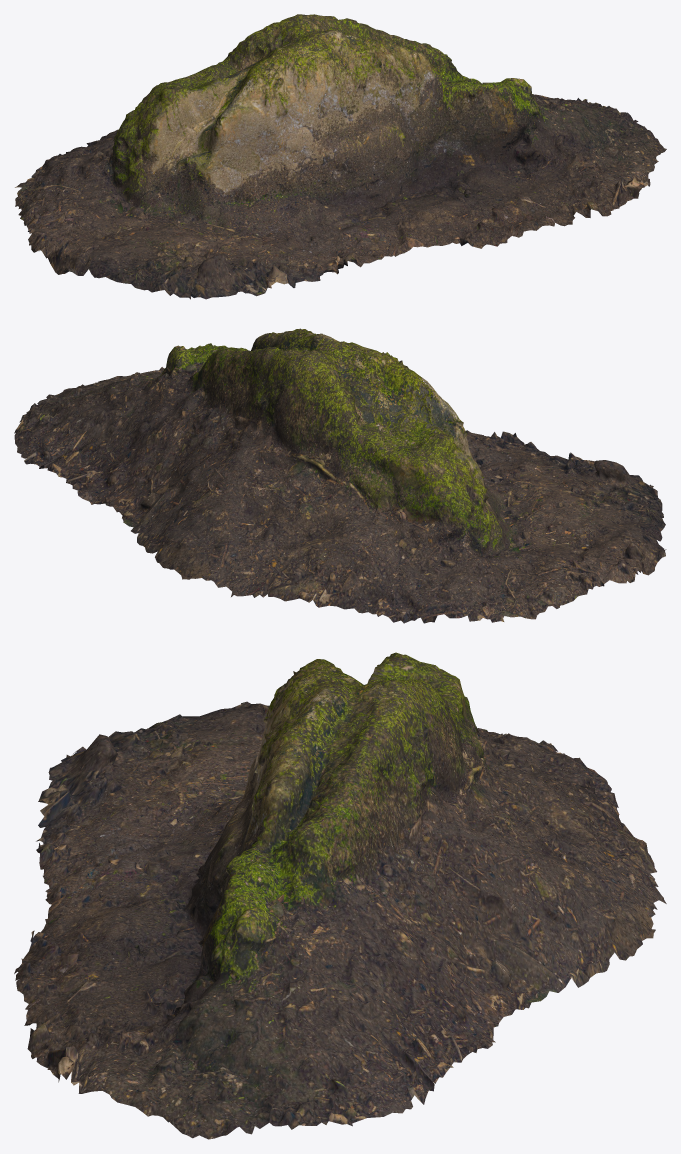
File: PX_Mossy_Rock_05_LOD1.fbx
The picture shows the model from 3 angles, top to bottom: view 1: azimuth 30°, elevation 25°; view 2: azimuth 150°, elevation 25°; view 3: azimuth 270°, elevation 25°; orthographic projection. The views are drawn at different scales.
Parts seen in each view (by area): view 1: PX_Mossy_Rock_05_LOD1; view 2: PX_Mossy_Rock_05_LOD1; view 3: PX_Mossy_Rock_05_LOD1.
Boxes of the visible parts, left/top/right/bottom form: PX_Mossy_Rock_05_LOD1: left=15, top=14, right=666, bottom=299; PX_Mossy_Rock_05_LOD1: left=14, top=328, right=666, bottom=623; PX_Mossy_Rock_05_LOD1: left=14, top=652, right=666, bottom=1139.
Size of the model in its own units: 104 by 27.93 by 67.2.
